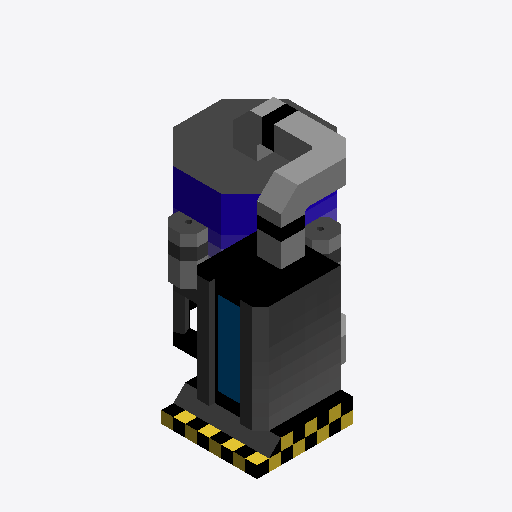
Isometric view (azimuth 45°, elevation 35.3°) of a Minecraft model made of 85 cuboids, textured from the same repository.
Parts seen in each view (by area): element 4, element 1, element 80, element 9, element 39, element 84, element 6, element 3, element 7, element 85, element 2, element 40 (+12 smaller).
Part boxes in pixels (x1,y1,x2,y2): element 4: (198, 231, 340, 430); element 1: (161, 403, 352, 478); element 80: (250, 97, 344, 160); element 9: (209, 275, 255, 416); element 39: (173, 159, 231, 258); element 84: (257, 201, 304, 268); element 6: (197, 271, 216, 405); element 3: (174, 383, 280, 457); element 7: (252, 298, 268, 430); element 85: (274, 150, 345, 206); element 2: (185, 376, 352, 450); element 40: (221, 184, 265, 250).
Bounding box in the file's own units: 15.83 × 16.42 × 16.